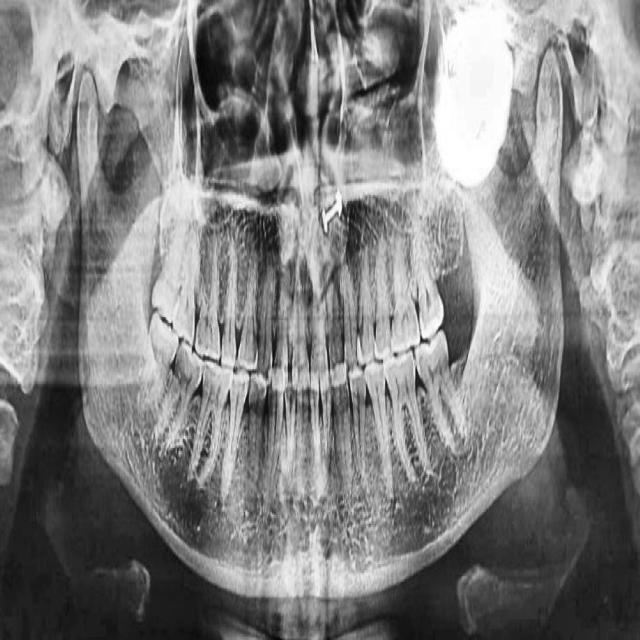karies: (172, 340, 192, 384)
